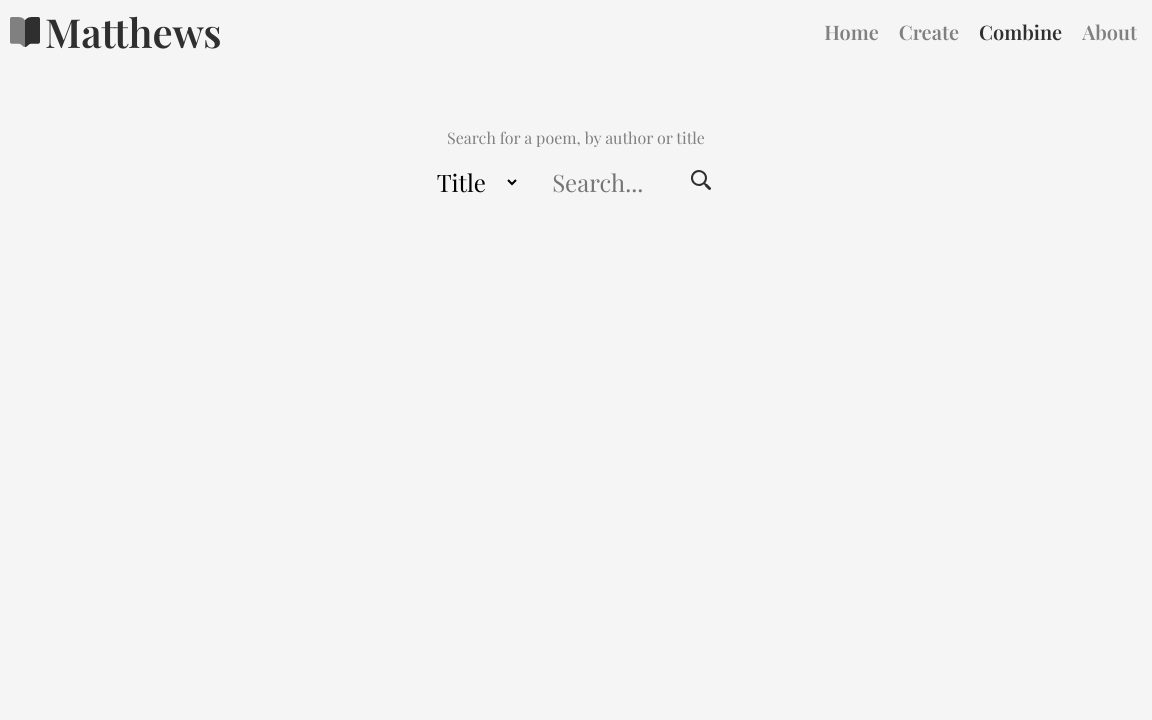
it: Search component › fetches search data on search form submission
Select "Title" in the dropdown at (473, 182), box [425, 157, 521, 207]
Type "Nature" into the field with placeholder "Search..." at (598, 182), box [520, 156, 675, 208]
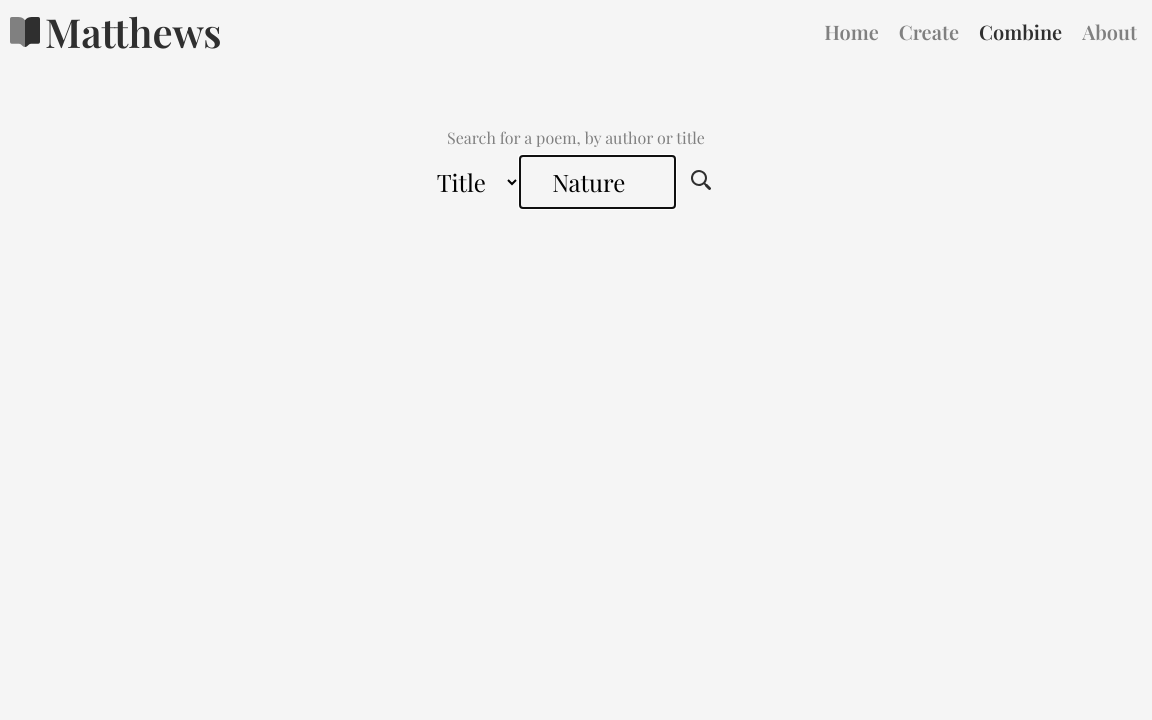
Click the button at (701, 190), box [675, 159, 727, 221]
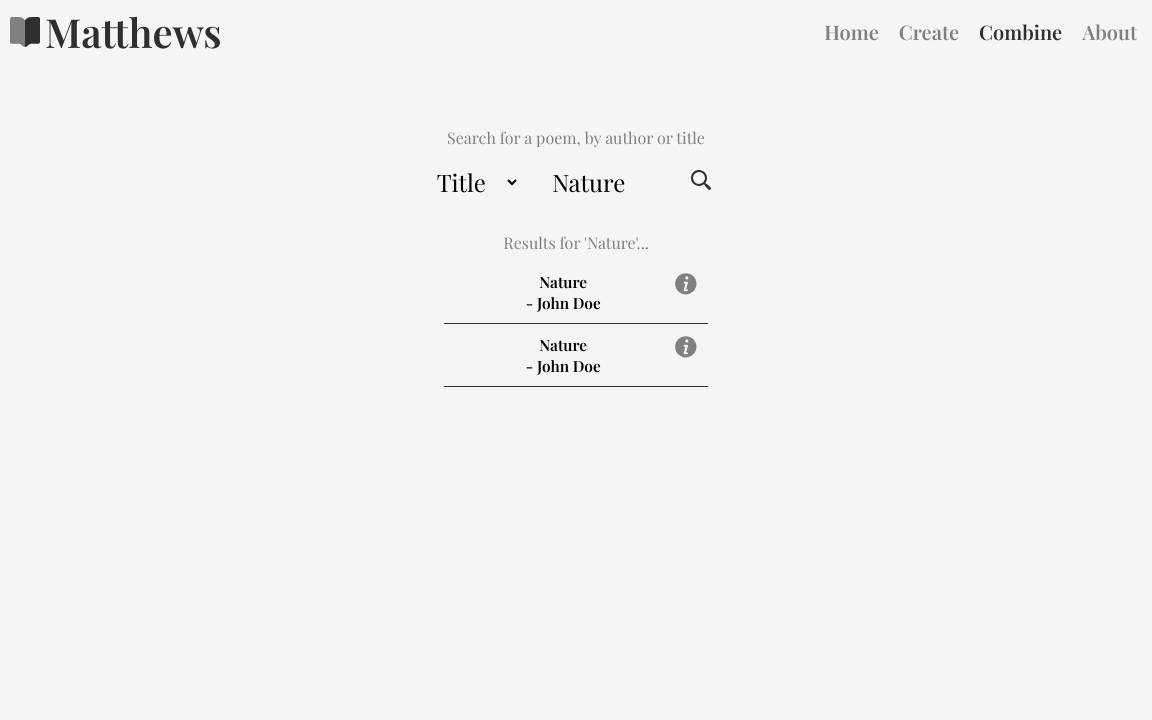
Check: the heading with class "results-header" reads "Results for 'Nature'...", box [503, 232, 648, 253]
Scroll
Click the 2nd element showing "Nature - John Doe" at (577, 356), box [444, 324, 709, 387]
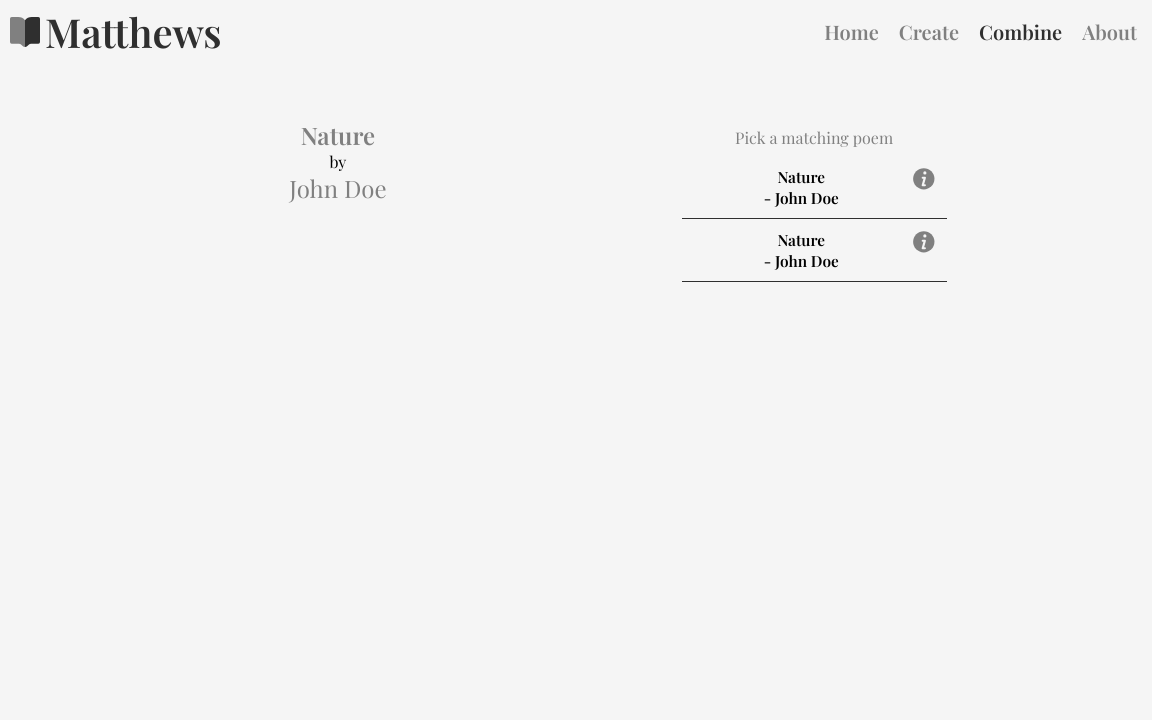
Check: the heading "Pick a matching poem" is shown, box [735, 127, 893, 148]
Scroll
Click the 1st element showing "Nature - John Doe" at (815, 188), box [682, 156, 947, 219]
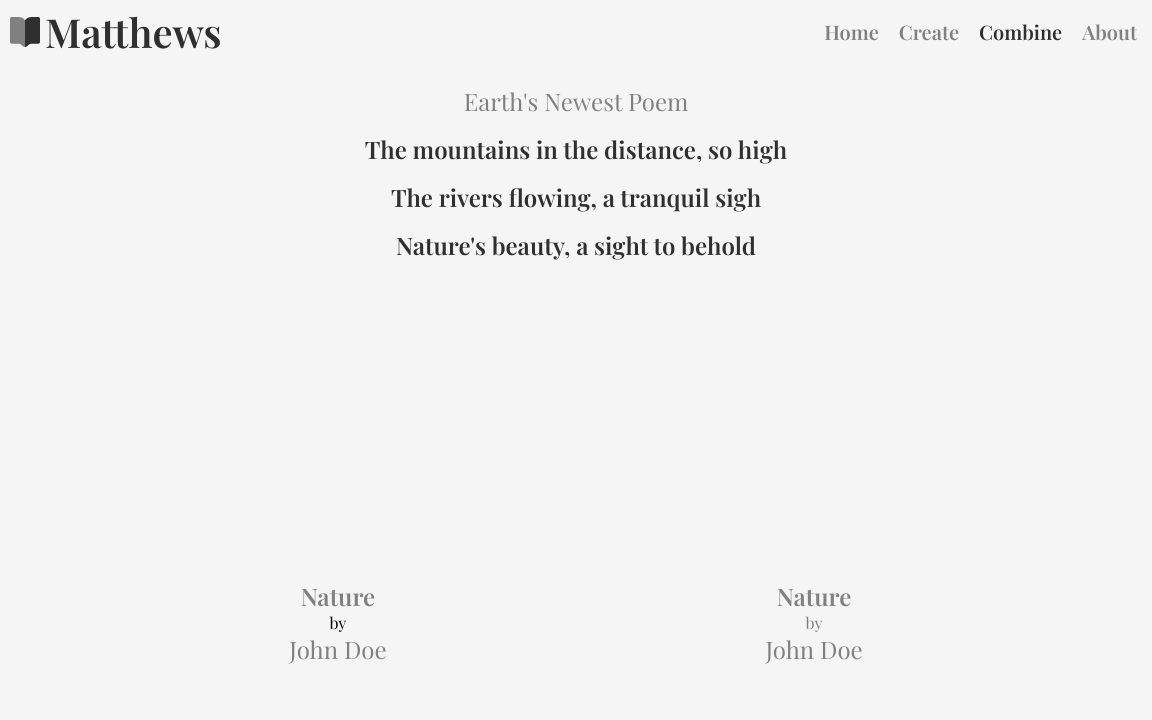
Check: the heading with class "new-poem-title" reads "Earth's Newest Poem", box [464, 85, 689, 117]
